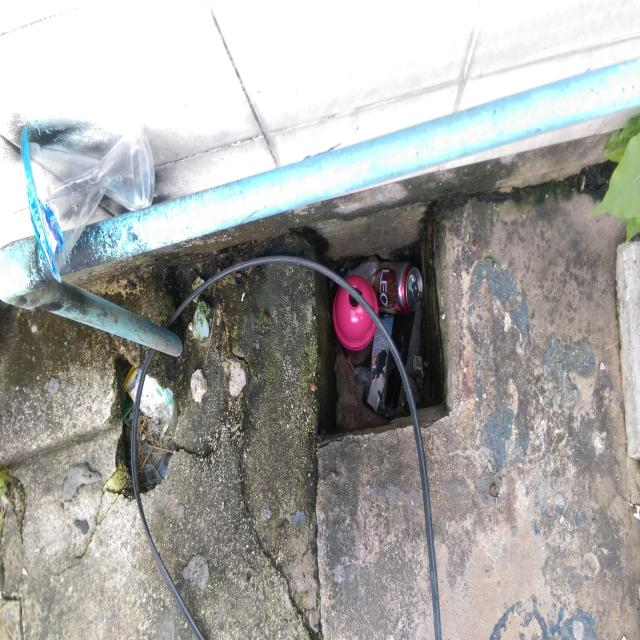litter: (19, 122, 155, 284)
